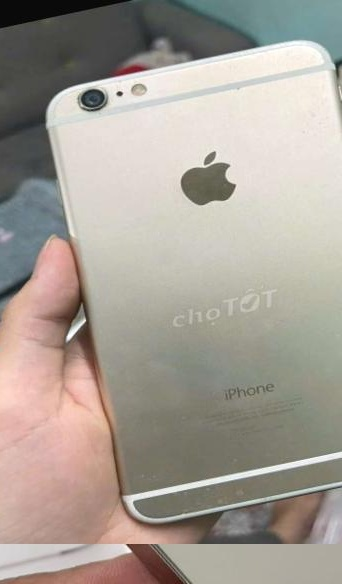scratch: (151, 423, 342, 526)
